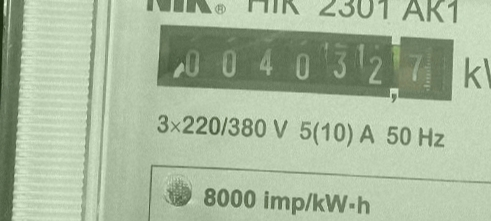0: (219, 45, 240, 79), (293, 47, 313, 81), (183, 44, 203, 77)
2: (367, 51, 386, 85)
3: (331, 47, 350, 79)
4: (256, 43, 277, 80)
7: (408, 49, 426, 83)
screen: (147, 15, 464, 112)
